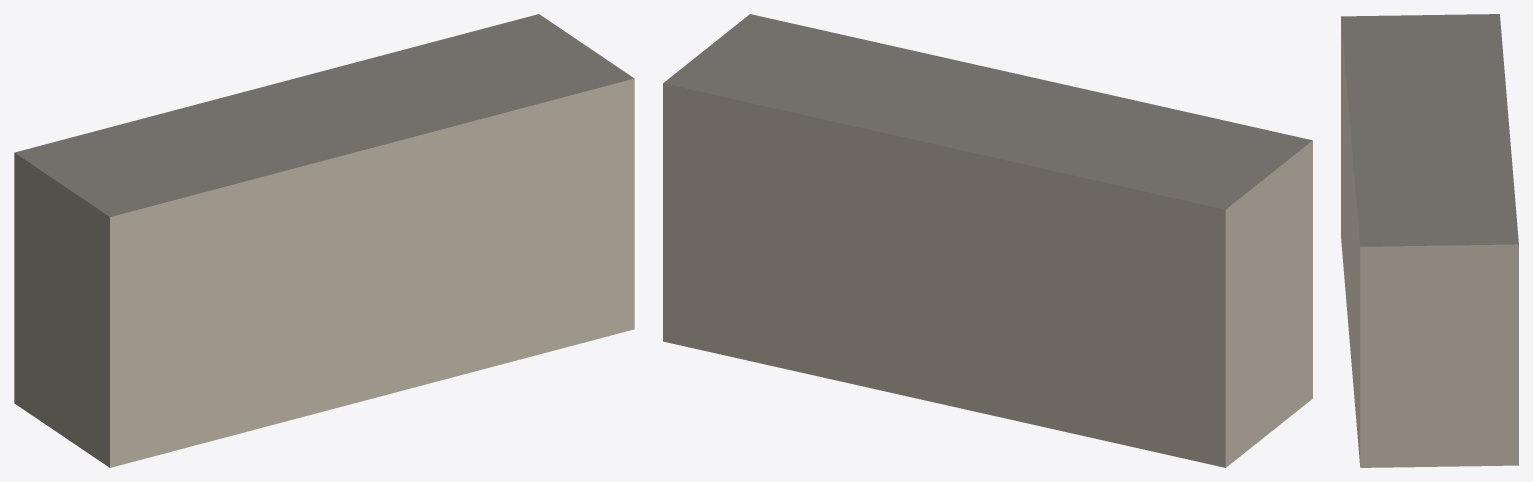
The picture shows the model from 3 angles, left to right: view 1: azimuth 30°, elevation 25°; view 2: azimuth 150°, elevation 25°; view 3: azimuth 270°, elevation 25°; orthographic projection. The views are drawn at different scales.
Visible parts, largest first — view 1: HP-w858807412; view 2: HP-w858807412; view 3: HP-w858807412.
Part boxes in pixels (left/top/right/bottom): HP-w858807412: left=14, top=14, right=634, bottom=467; HP-w858807412: left=663, top=14, right=1312, bottom=467; HP-w858807412: left=1341, top=14, right=1518, bottom=467.
Size of the model in its own units: 40.64 by 18 by 13.13.
